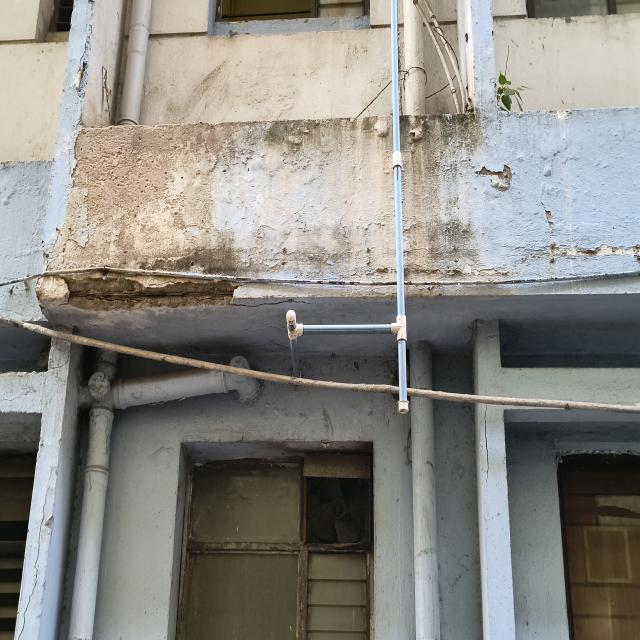Scaling: (49, 124, 236, 271)
Spalling: (36, 268, 239, 310)
